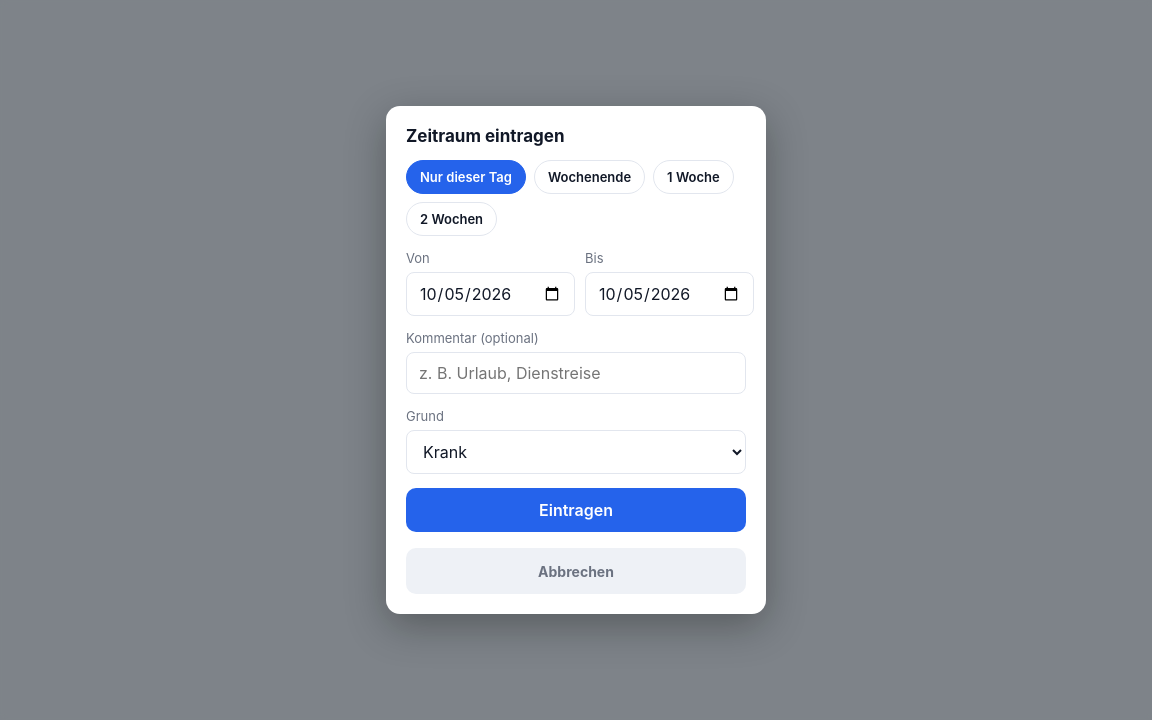
Scenario: AbsenceSheet – eintragen › ein späteres „Von" schiebt „Bis" mit – ein verkehrter Zeitraum entsteht gar nicht erst
Type "2026-10-20" into the date field labelled "Von".
click(490, 294); type("2026-10-20")  # box [406,272,575,316]
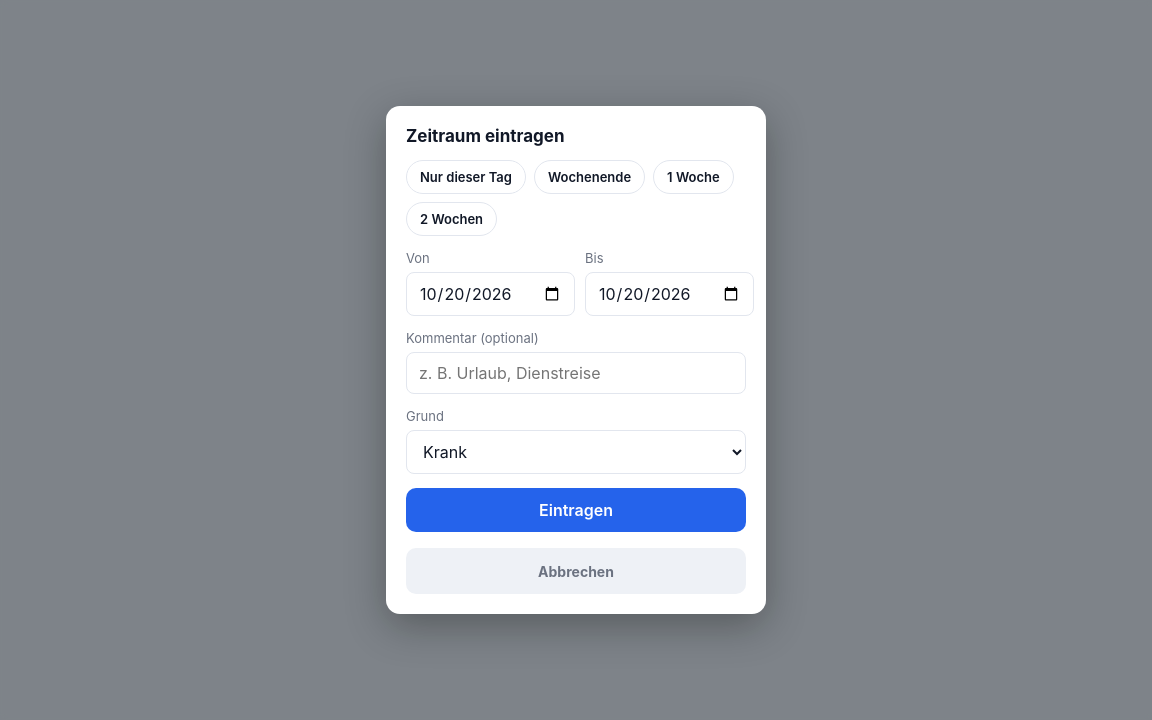
Expected: the date field labelled "Bis" holds "2026-10-20", [585,272,754,316]
